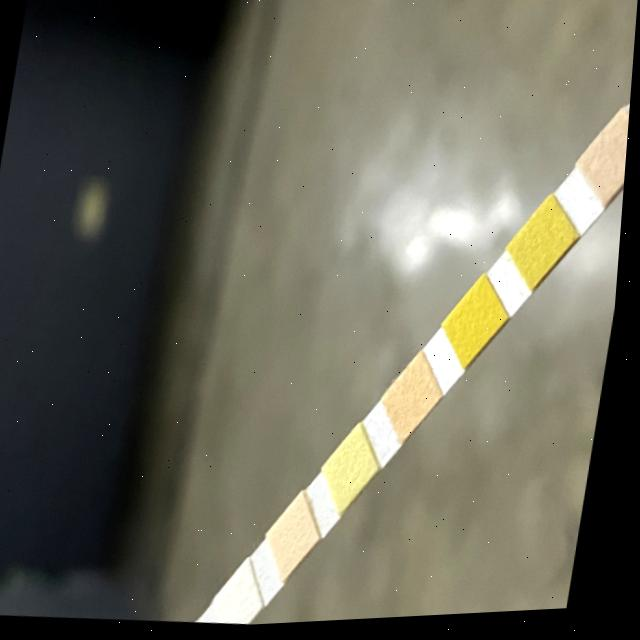Blood: (459, 302, 498, 350)
Ketone: (595, 137, 631, 189)
Nitrite: (229, 582, 268, 628)
Protein: (337, 448, 376, 495)
SpGravity: (524, 224, 566, 272)
Urobilinogen: (283, 519, 317, 562)
pH: (399, 376, 438, 423)
